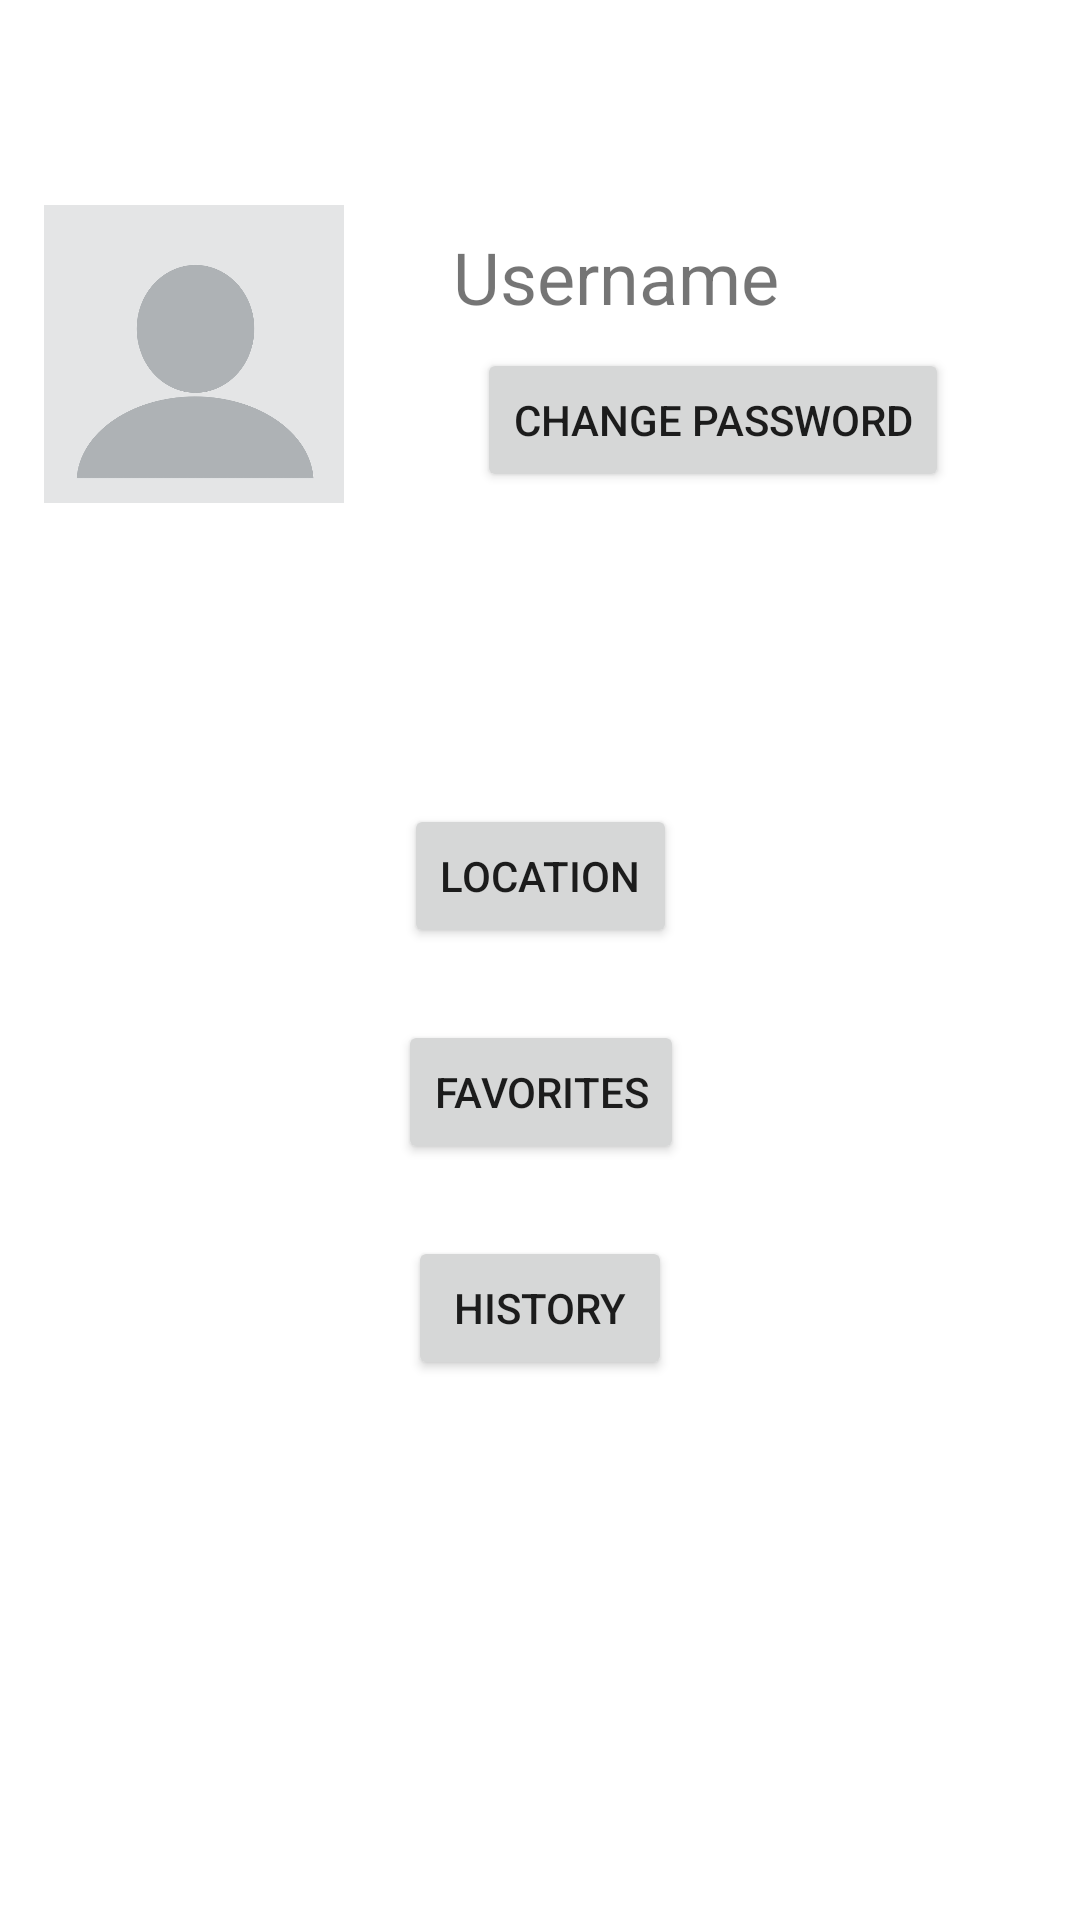

Icon bounding boxes for this 1080*1920 phone screenshot, format BBox(x1, y1, x2, y2):
blank profile picture: BBox(44, 205, 344, 503)
